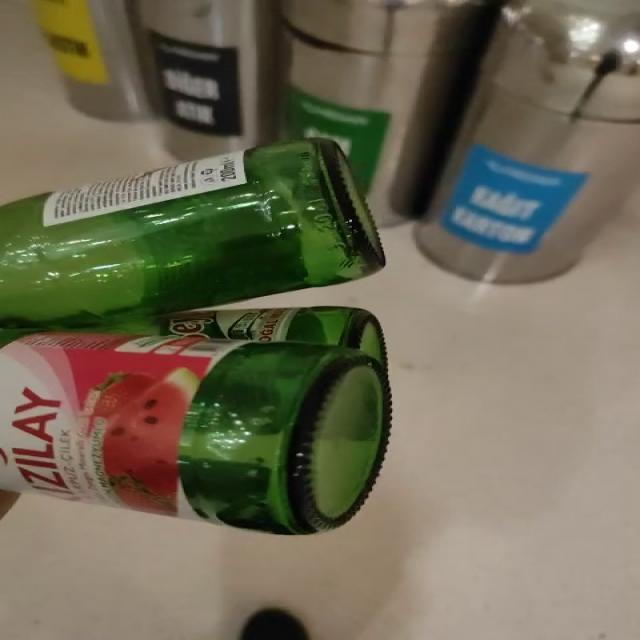Glass: (1, 139, 392, 536)
